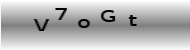7: (53, 7, 68, 21)
G: (100, 8, 116, 23)
V: (33, 17, 51, 32)
o: (77, 18, 91, 28)
t: (127, 15, 138, 28)
